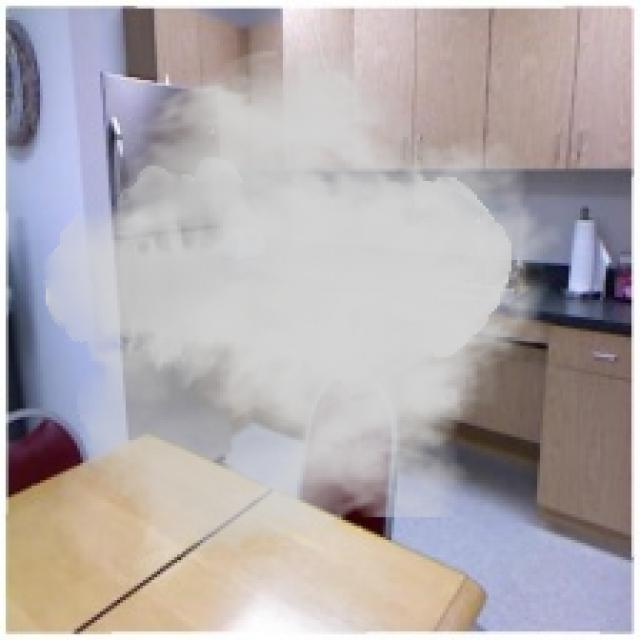smoke: (43, 43, 566, 563)
